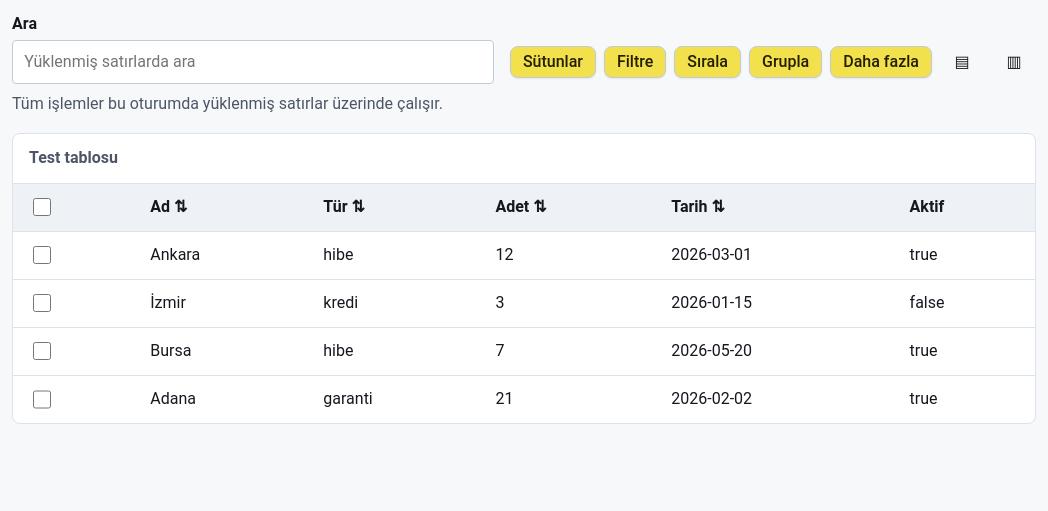
Test: selection and bulk actions › select-all covers the loaded rows and says so
What coordinates should you click on to do the following:
click the checkbox named "Yüklenmiş tüm satırları seç" in the row of "Aktif"
I would click on:
 (42, 207)
Its box is [33,198,51,216].
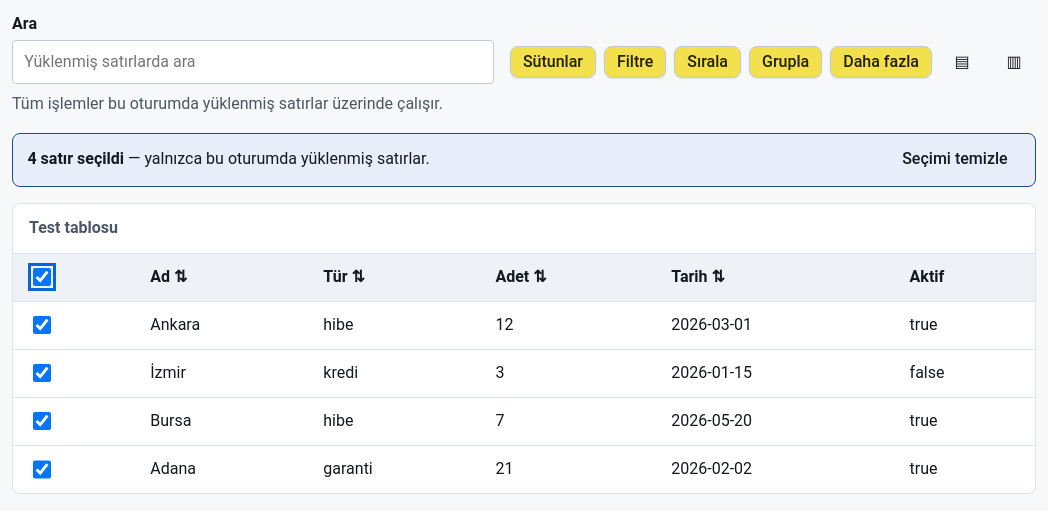
Result: the element named "Toplu eylem" shows "4 satır seçildi" at [12,133,1036,187]
